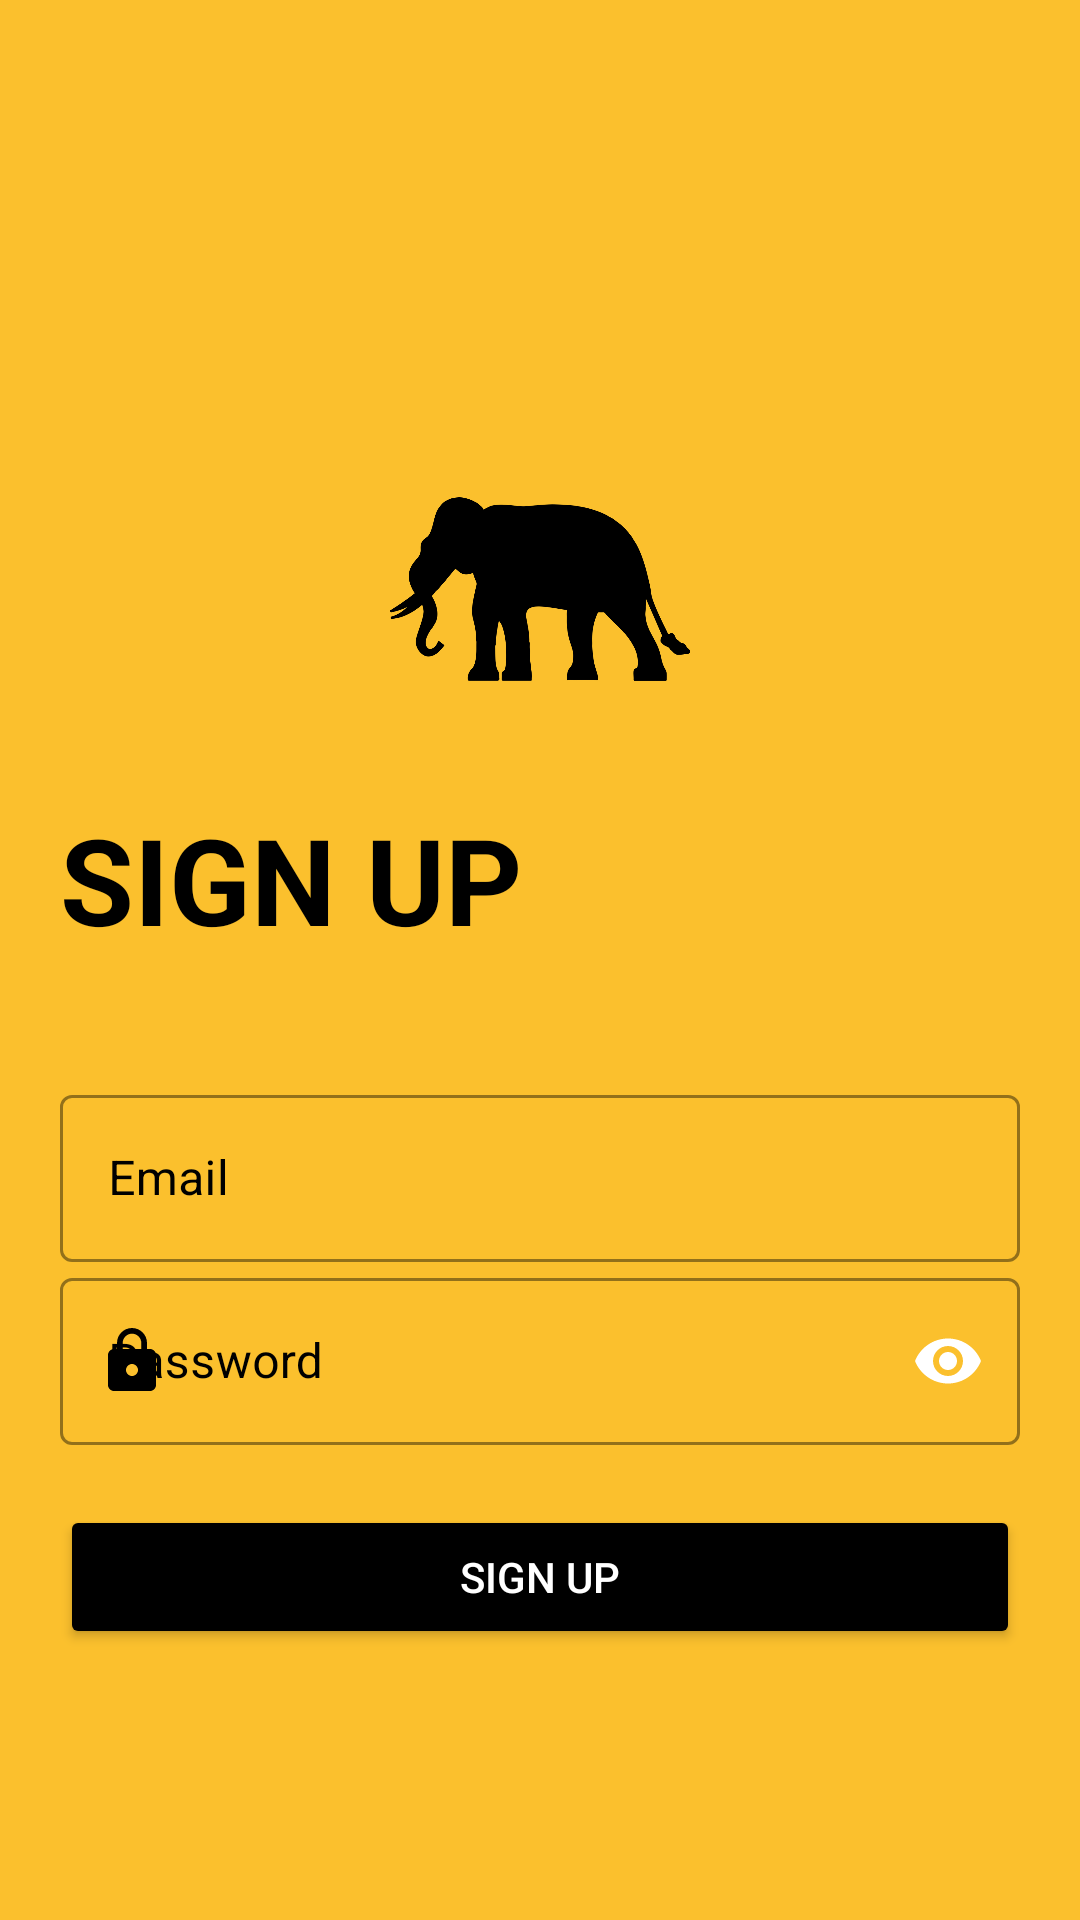

Named icons in this screenshot (1080 x 1920) and their centers, (x,y):
african elephant: (540,589)
